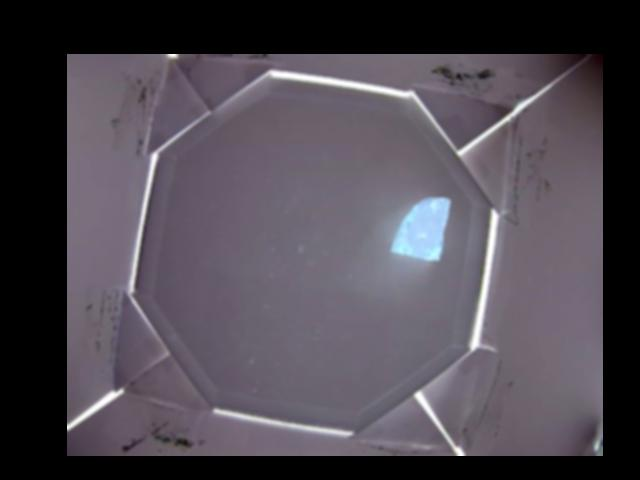Brisk: (391, 194, 453, 260)
